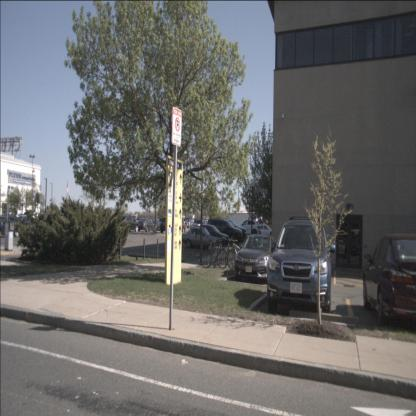vehicle-car: (267, 215, 336, 317), (363, 234, 415, 328), (235, 235, 279, 281), (180, 226, 221, 251), (207, 219, 243, 244), (194, 224, 230, 247), (214, 219, 246, 242), (234, 220, 262, 238), (0, 215, 22, 237), (118, 215, 140, 232), (253, 224, 275, 238), (160, 218, 177, 233), (137, 218, 155, 232), (150, 220, 163, 231)
